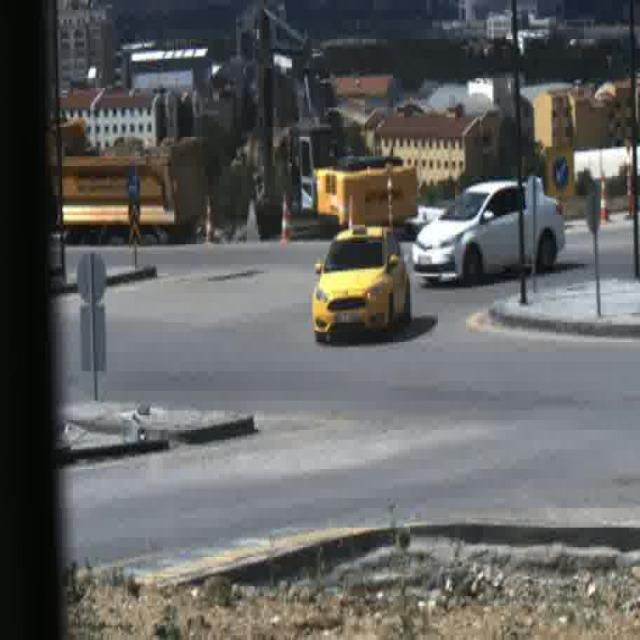Car: (414, 180, 565, 282), (312, 223, 408, 341)
